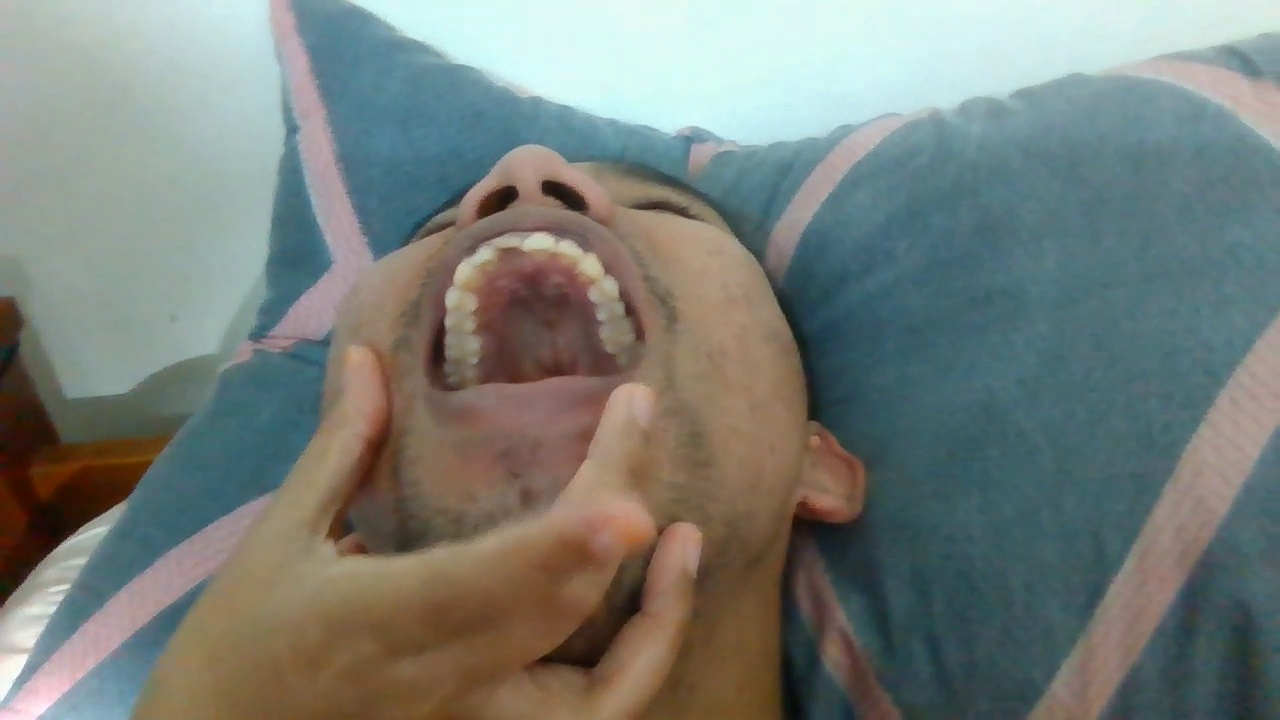1st Molar: (443, 334, 482, 363), (599, 320, 636, 350)
1st Premolar: (444, 287, 478, 312), (588, 275, 619, 301)
2nd Molar: (445, 364, 482, 385)
2nd Premolar: (443, 312, 476, 333), (593, 301, 624, 320)
Canine: (454, 262, 488, 288), (576, 254, 604, 281)
Central Incisor: (523, 230, 557, 252), (493, 231, 523, 250)
Lateral Incisor: (465, 245, 499, 267), (557, 238, 584, 259)
